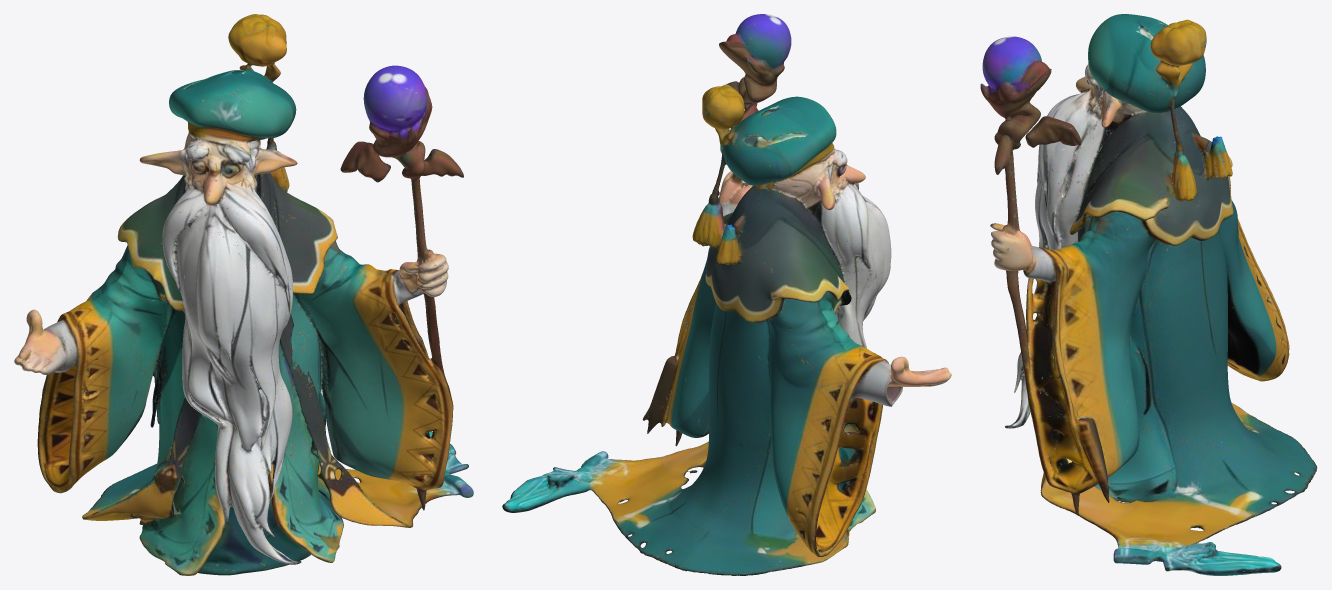
Rendered from old.glb.
3 renders of one model, left to right at view 1: azimuth 30°, elevation 25°; view 2: azimuth 150°, elevation 25°; view 3: azimuth 270°, elevation 25°, orthographic. The views are drawn at different scales.
Size of the model in its own units: 1.93 by 2 by 1.31.
1 material, 1 textured.
